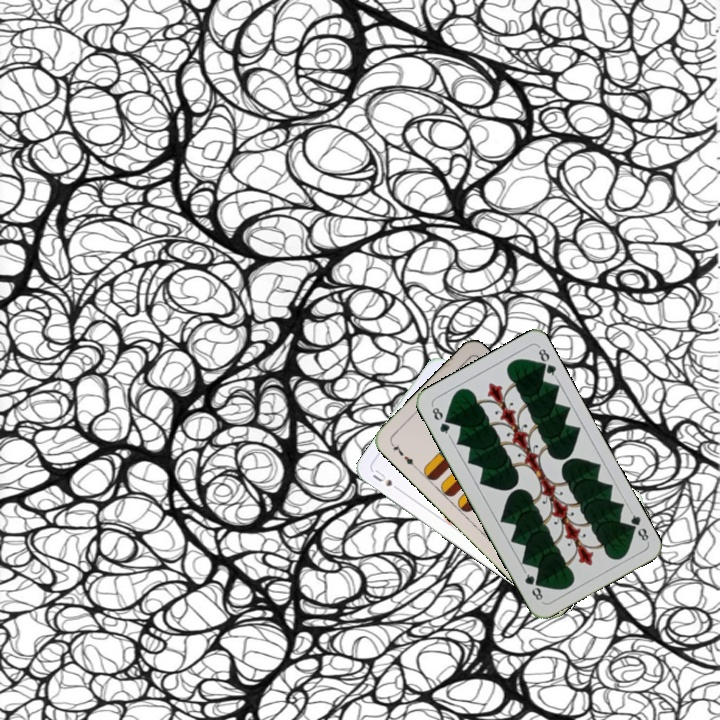E7: (387, 438, 419, 471)
G8: (624, 507, 652, 545), (428, 402, 453, 439)
SU: (368, 465, 405, 494)
